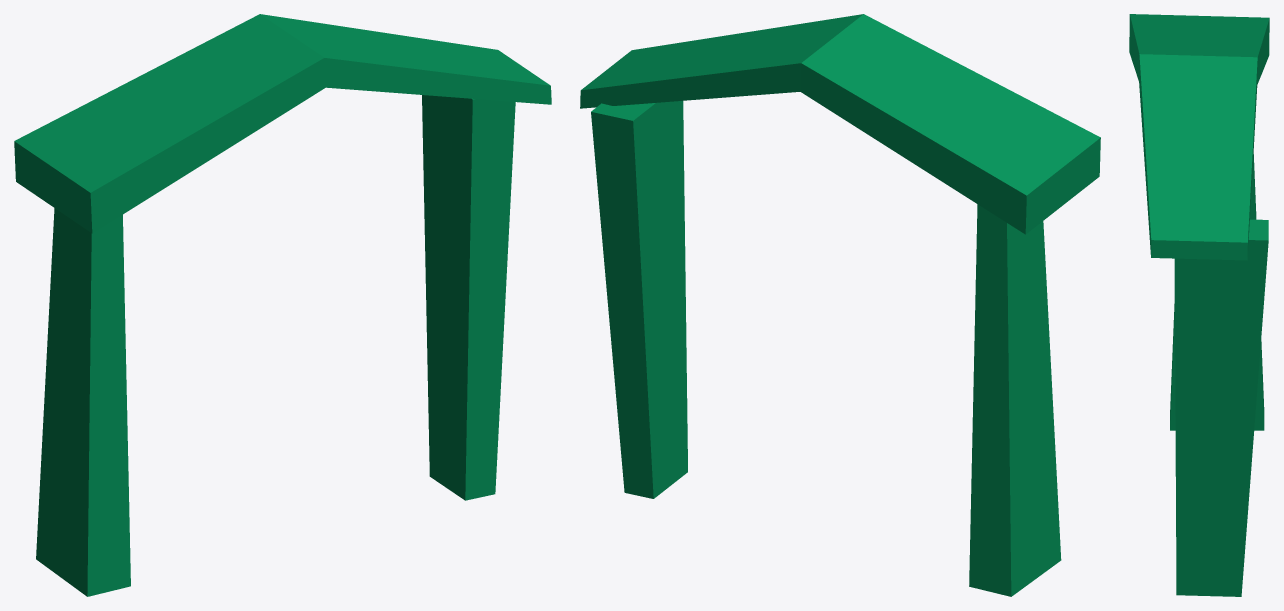
Rendered from Tor_Rahmen_grün_296.glb.
3 renders of one model, left to right at view 1: azimuth 30°, elevation 25°; view 2: azimuth 150°, elevation 25°; view 3: azimuth 270°, elevation 25°, orthographic. The views are drawn at different scales.
Visible parts, largest first — view 1: pCubeShape193, pCubeShape195, pCubeShape194; view 2: pCubeShape193, pCubeShape195, pCubeShape194; view 3: pCubeShape193, pCubeShape195, pCubeShape194.
Part boxes in pixels (bbox=[...]): pCubeShape193: bbox=[14, 14, 551, 233]; pCubeShape195: bbox=[422, 95, 515, 500]; pCubeShape194: bbox=[36, 208, 130, 596]; pCubeShape193: bbox=[580, 14, 1100, 234]; pCubeShape195: bbox=[591, 101, 687, 498]; pCubeShape194: bbox=[969, 204, 1061, 596]; pCubeShape193: bbox=[1129, 14, 1269, 260]; pCubeShape195: bbox=[1174, 219, 1268, 596]; pCubeShape194: bbox=[1170, 154, 1264, 430].
Size of the model in its own units: 0.3419 by 0.3453 by 0.096.
